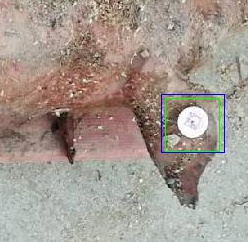text: (165, 98, 219, 151)
